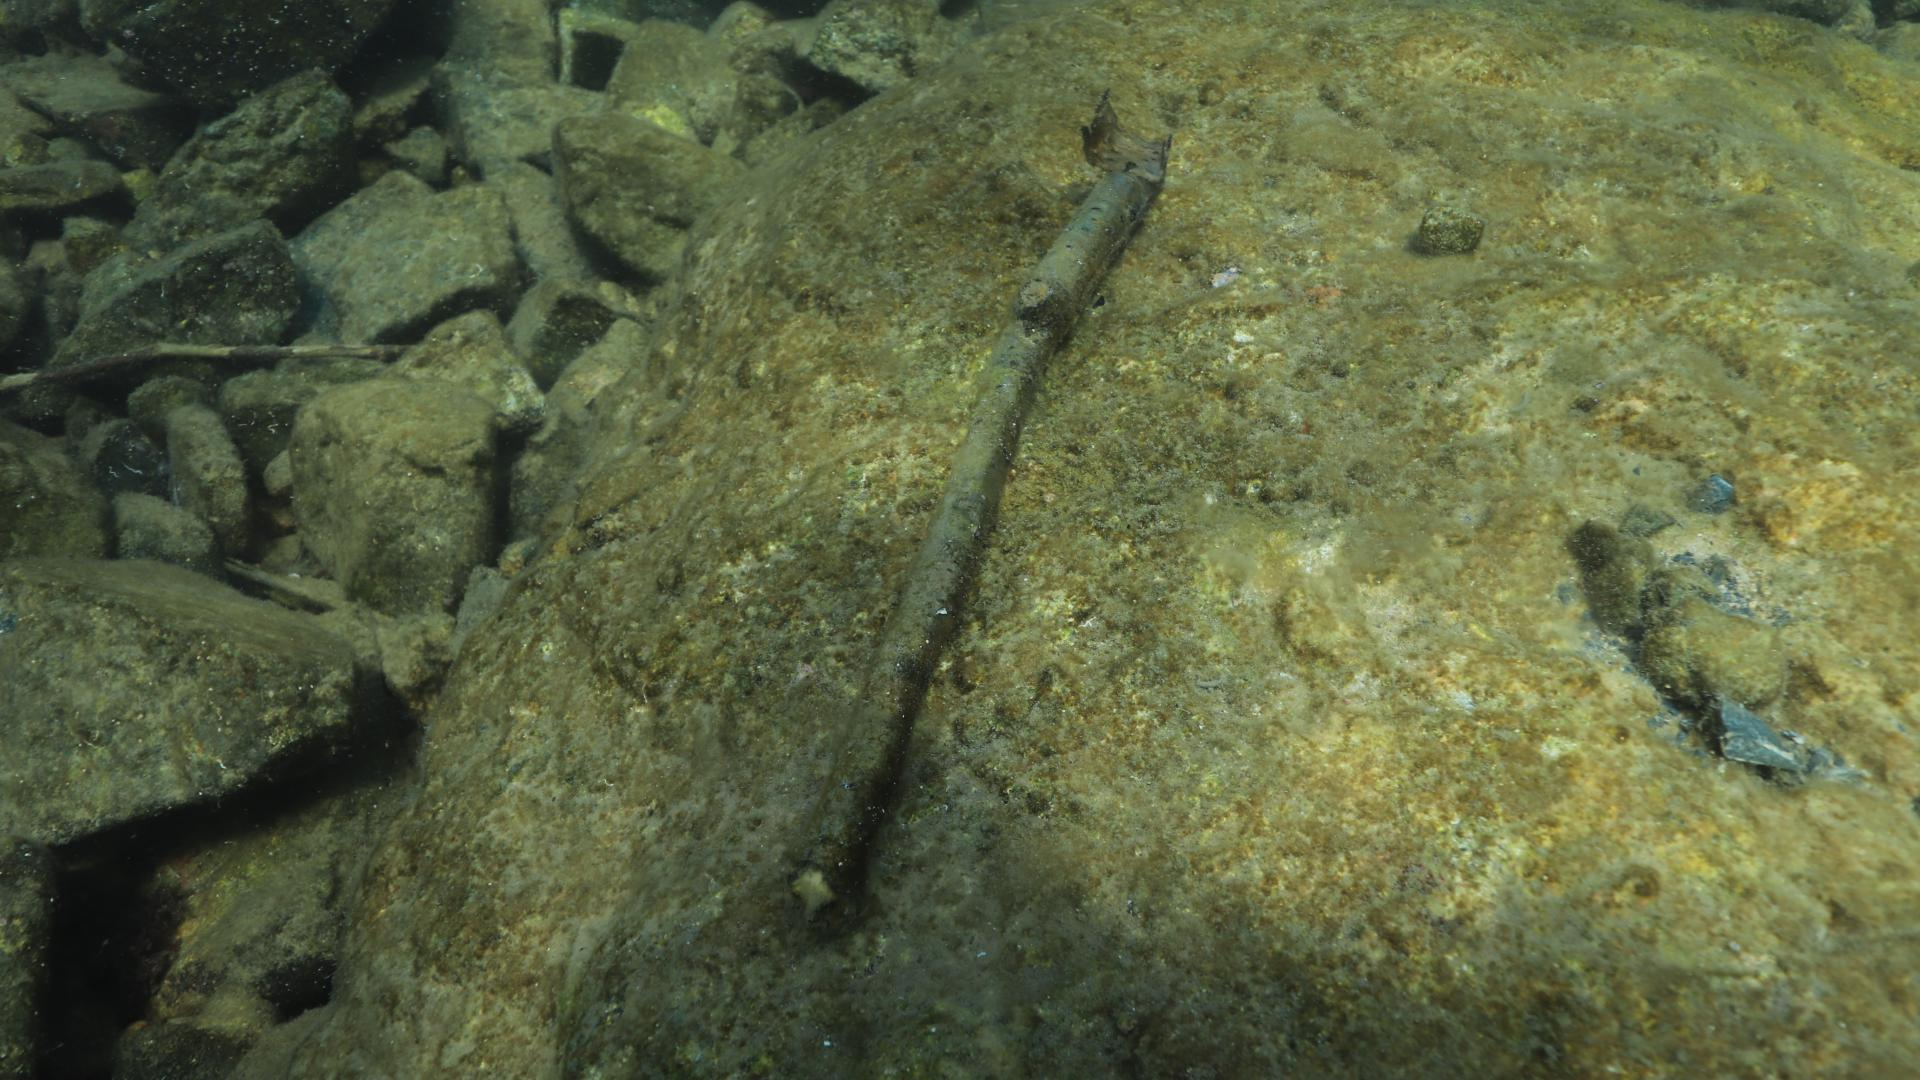wood: (785, 164, 1163, 922)
